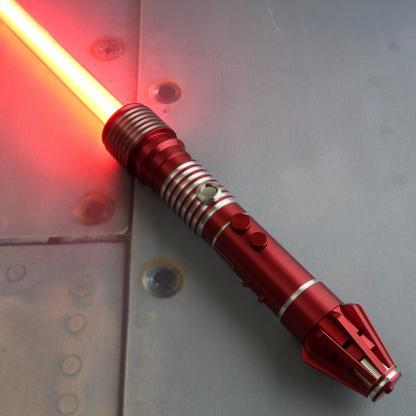sith_lightsaber: (1, 0, 410, 407)
